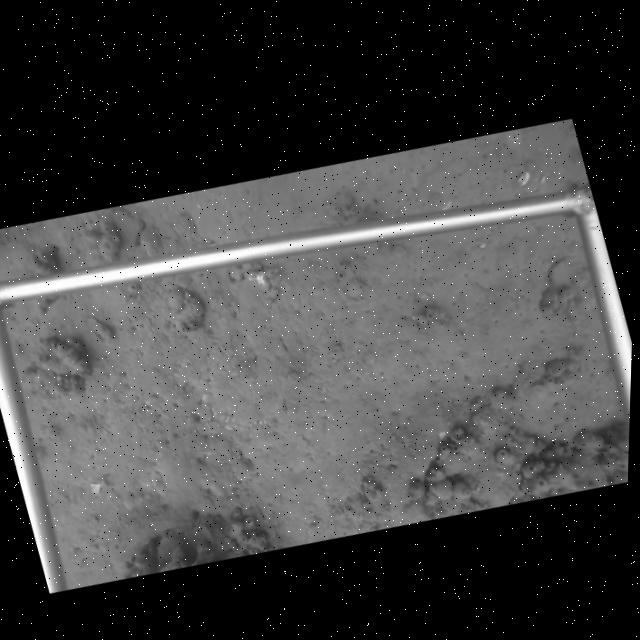Oyster-Indeterminate: (540, 255, 581, 311), (113, 206, 144, 248), (80, 313, 112, 342)
